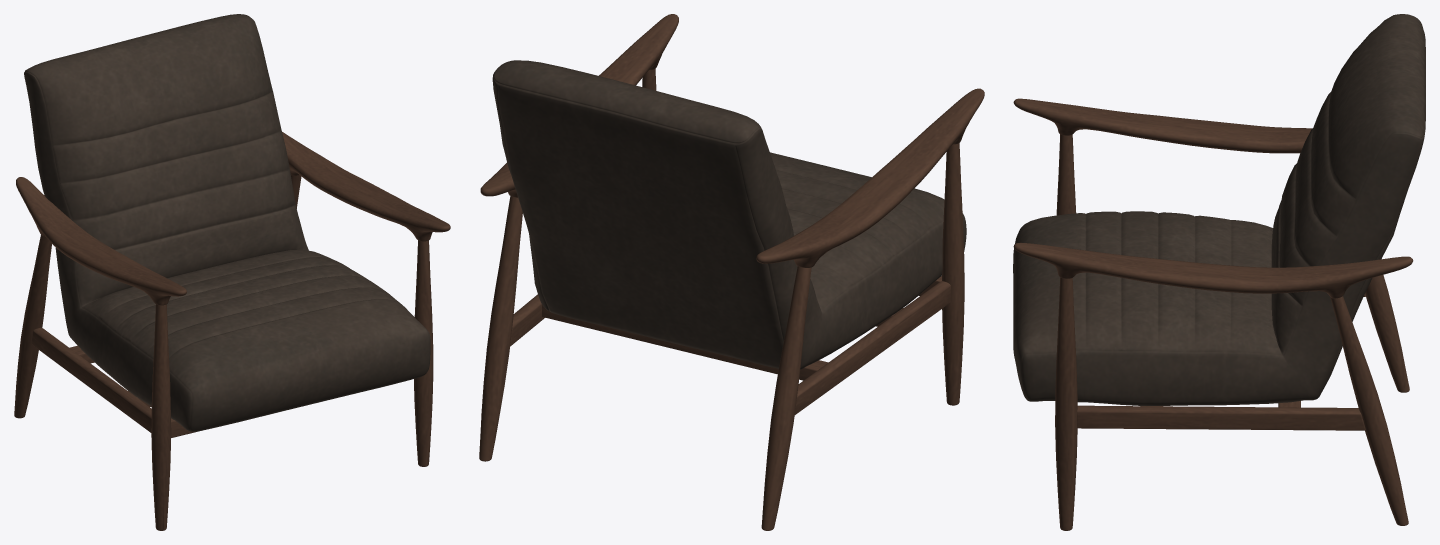
3 views of the same model, side by side, from view 1: azimuth 30°, elevation 25°; view 2: azimuth 150°, elevation 25°; view 3: azimuth 270°, elevation 25° (orthographic). The views are drawn at different scales.
Parts seen in each view (by area): view 1: RootNode; view 2: RootNode; view 3: RootNode.
Boxes of the visible parts, x1,y1,x2,y2 form: RootNode: (14,14,450,530); RootNode: (479,14,984,530); RootNode: (1013,14,1425,530).
Bounding box in the file's own units: 0.7411 × 0.831 × 0.7977.
Materials: 1 (1 with a texture image).
